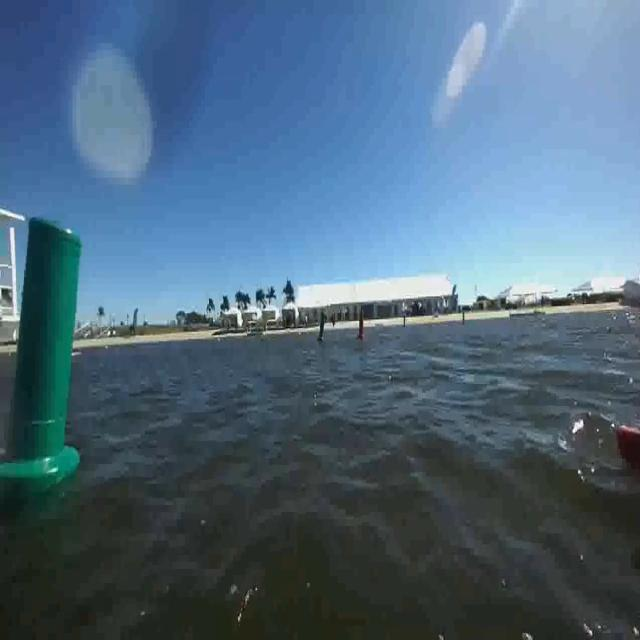green-column-buoy: (0, 216, 82, 489), (316, 312, 328, 344)
red-column-buoy: (357, 313, 367, 344)
